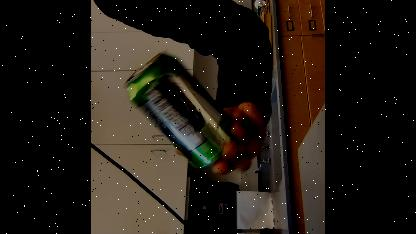Can: (122, 45, 238, 172)
